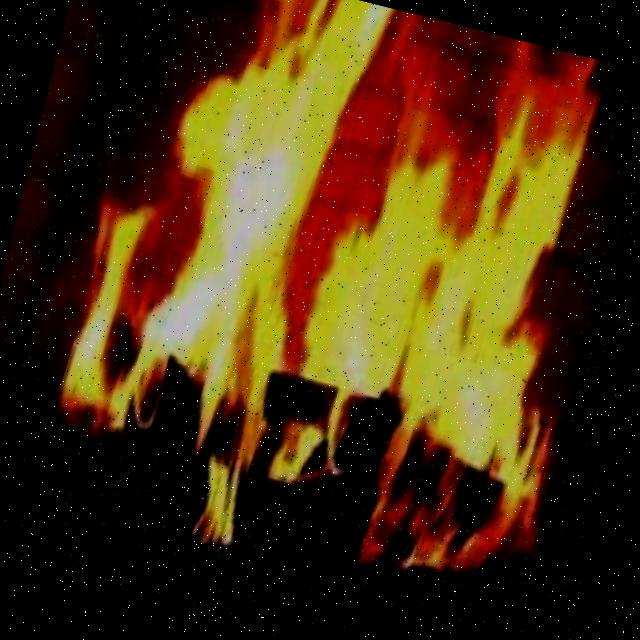fire: (20, 0, 623, 591)
